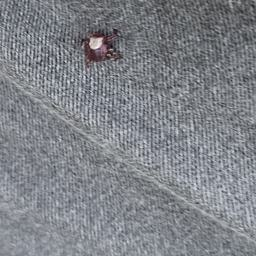Dermacentor variabilis: (77, 32, 122, 68)
